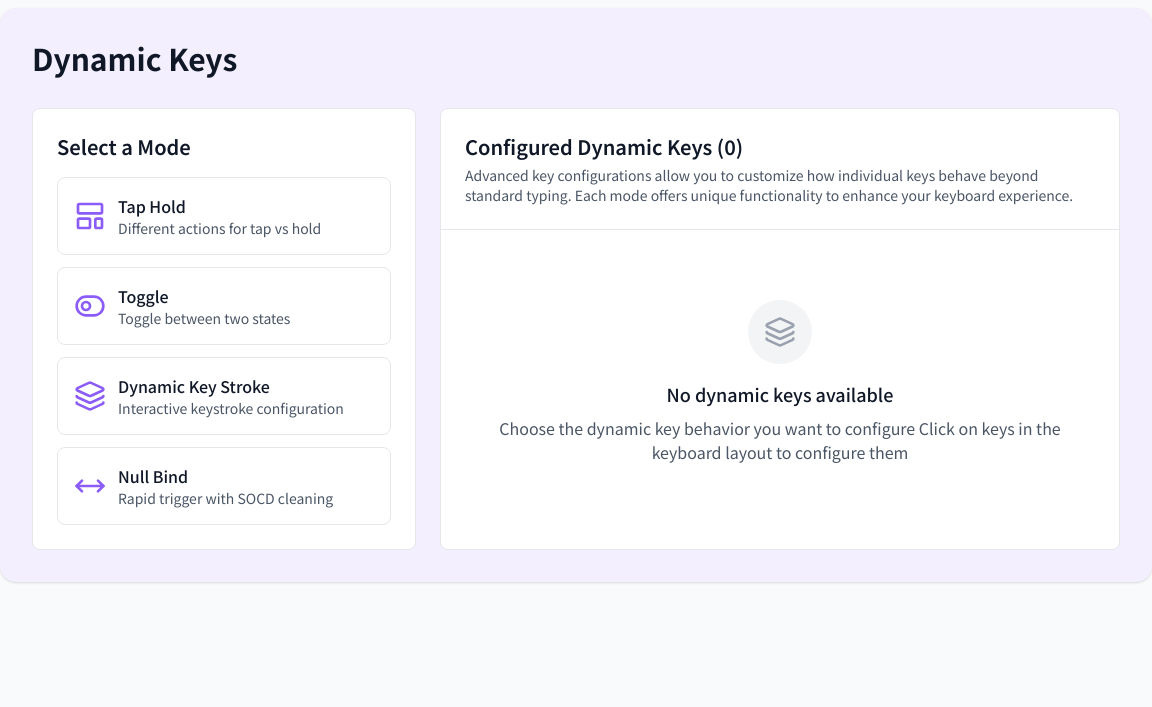
Test: Null-bind editor › keeps the pair and remembers nothing when the keyboard has no free slot
This screenshot has width=1152, height=707.
Click the button "Null Bind Rapid trigger with SOCD cleaning". click: coordinates (224, 486)
box: [57,447,391,525]
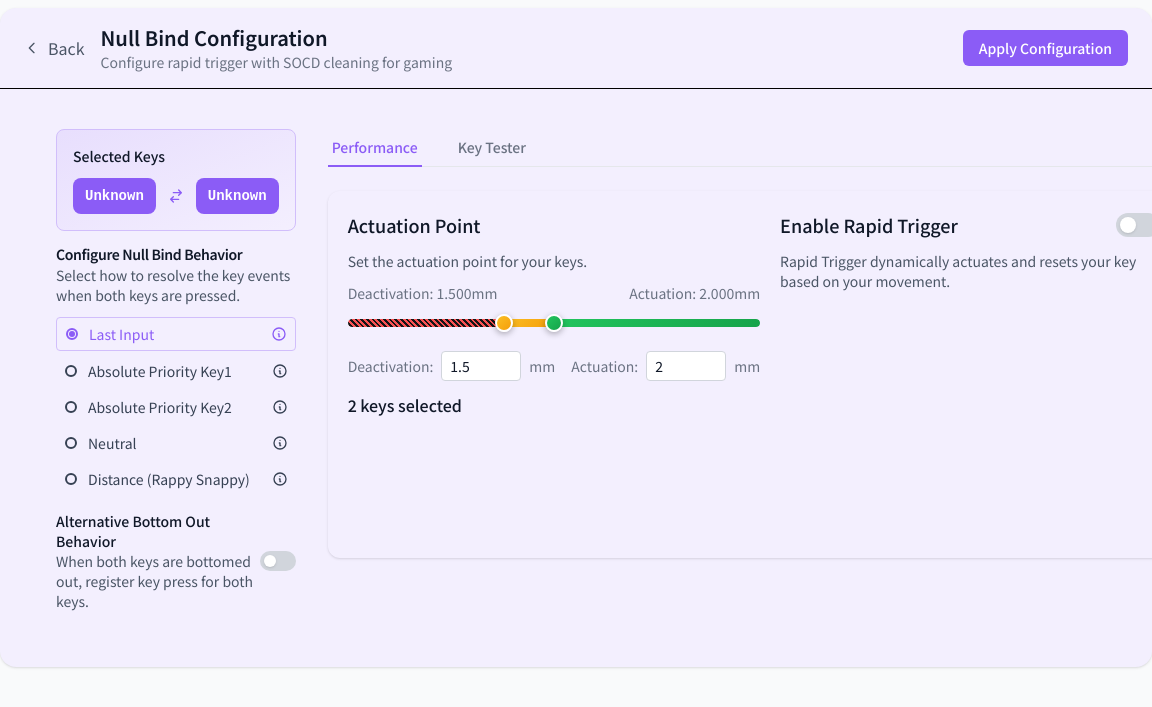
Click the switch named "Alternative Bottom Out Behavior". click: coordinates (278, 561)
box: [260,551,296,571]
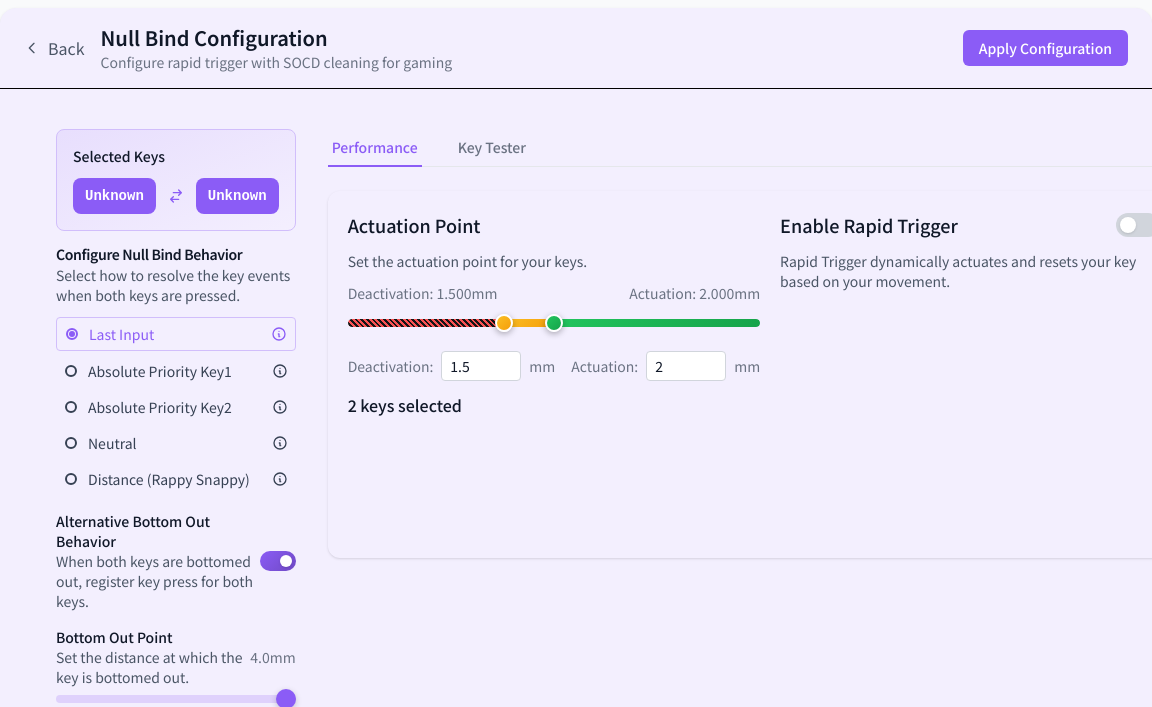
Set the slider named "Bottom Out Point" to "3.2". click: coordinates (213, 699)
box: [56,695,296,703]
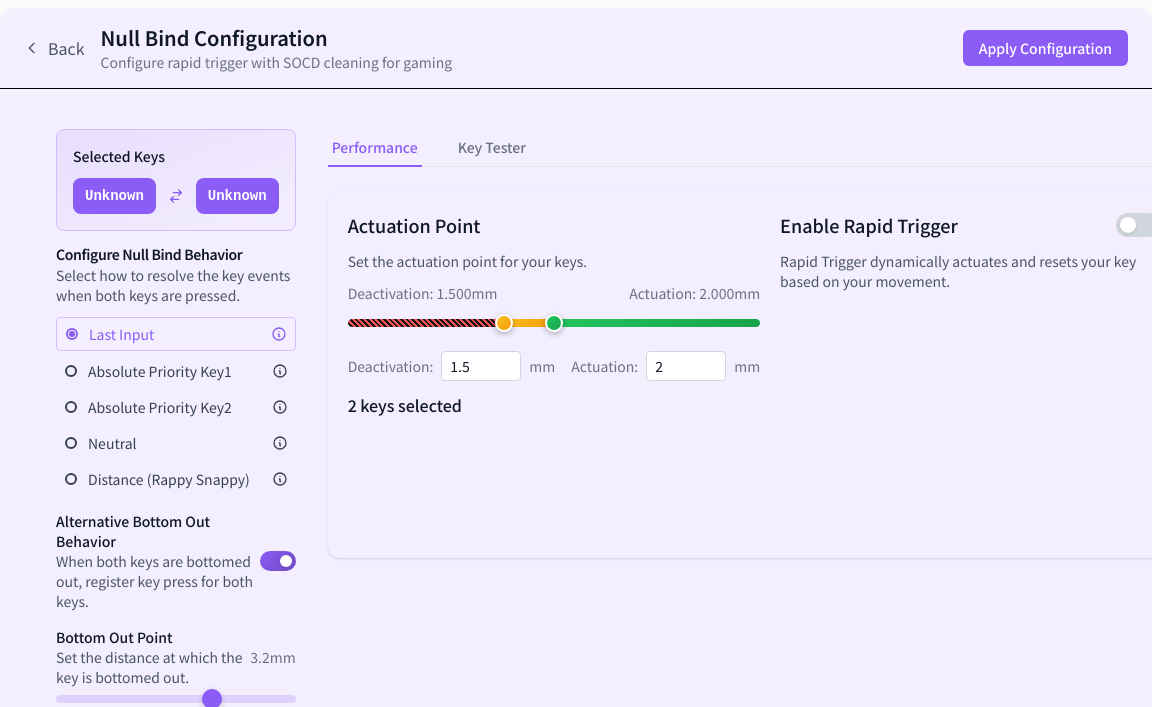
Click the button "Apply Configuration". click: coordinates (1045, 48)
box: [963,30,1128,66]
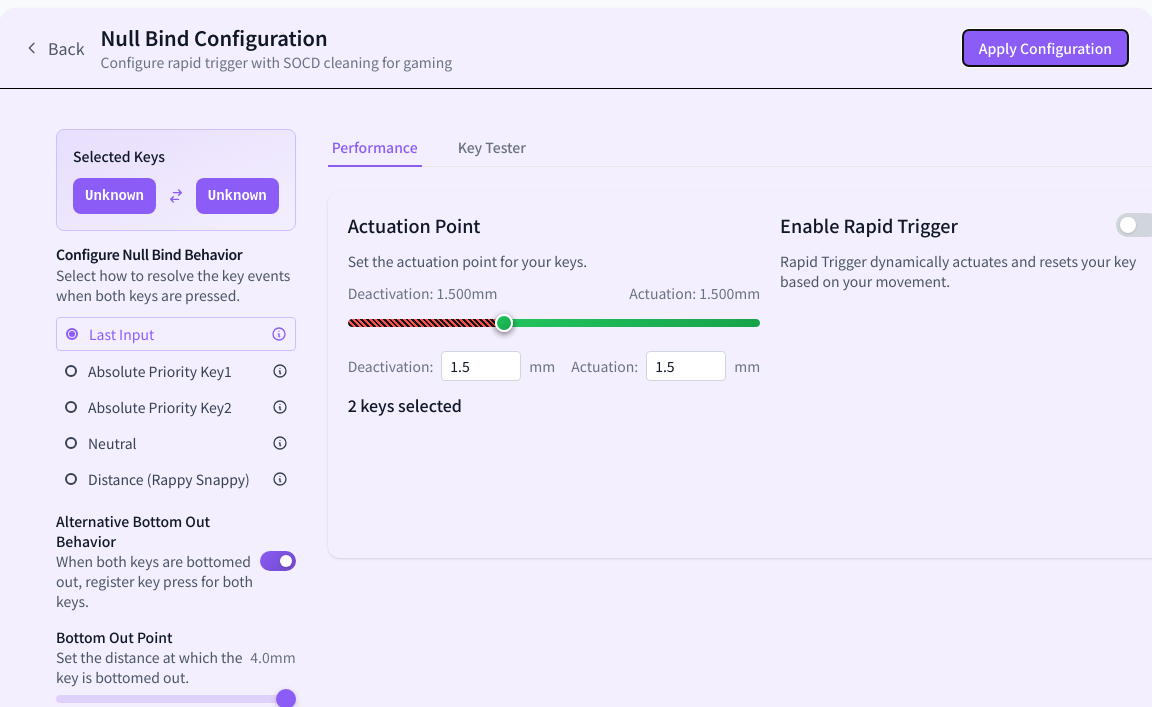
Result: the text "Configure Null Bind Behavior" is shown at [56,244,242,264]
Result: the button "Apply Configuration" is enabled at [963,30,1128,66]
Result: the slider named "Bottom Out Point" holds "4" at [56,695,296,703]
